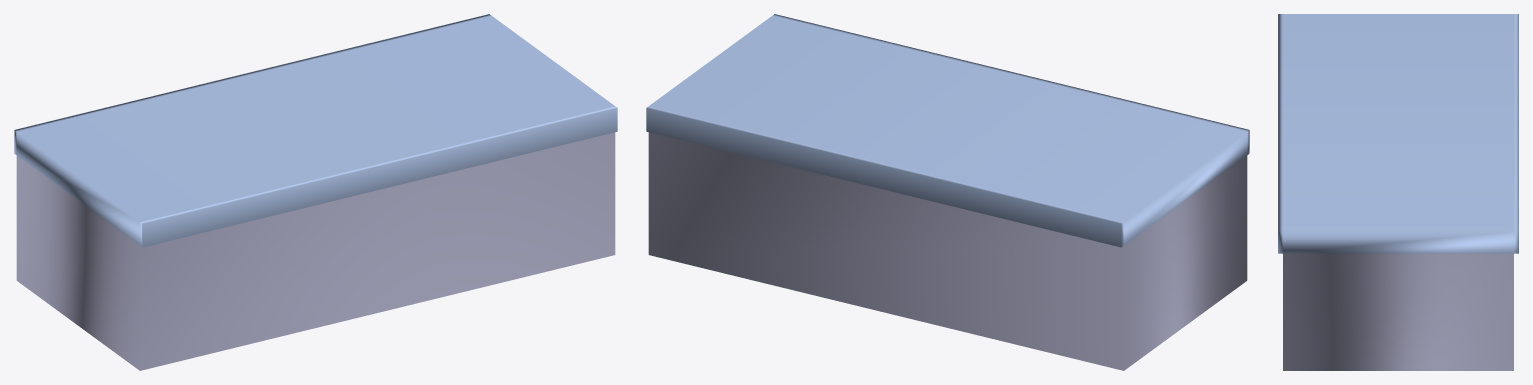
The model's file is Building_A_11.fbx.
3 views of the same model, side by side, from view 1: azimuth 30°, elevation 25°; view 2: azimuth 150°, elevation 25°; view 3: azimuth 270°, elevation 25° (orthographic). The views are drawn at different scales.
Parts seen in each view (by area): view 1: Building_A_11; view 2: Building_A_11; view 3: Building_A_11.
Part boxes in pixels (x1,y1,x2,y2): Building_A_11: [14, 14, 617, 370]; Building_A_11: [646, 14, 1249, 370]; Building_A_11: [1278, 14, 1518, 370].
Size of the model in its own units: 931 by 279 by 436.
